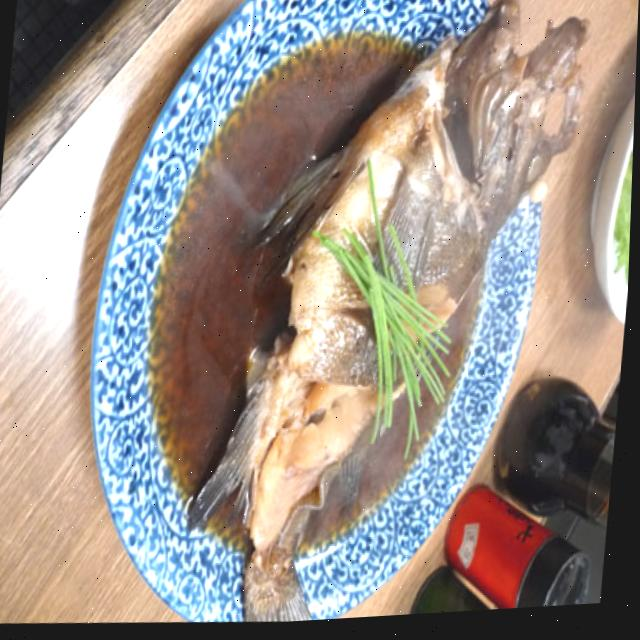熟制海鲜: (133, 0, 635, 633)
